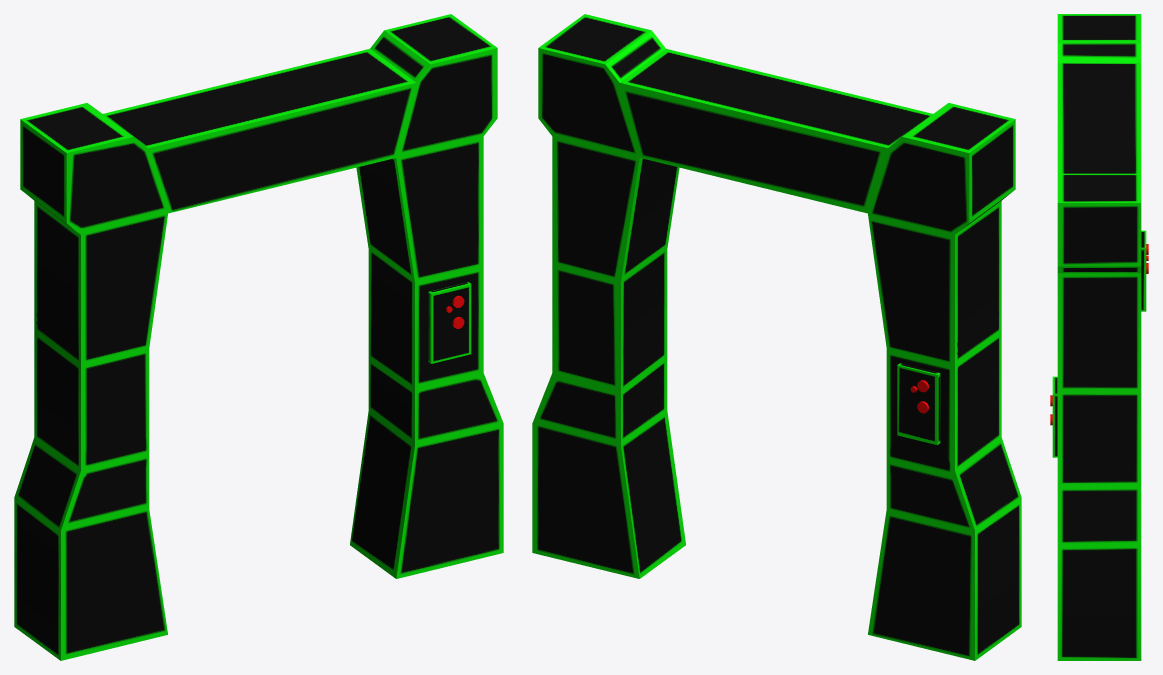
File: SciFiDoorFrame_m.FBX
3 renders of one model, left to right at view 1: azimuth 30°, elevation 25°; view 2: azimuth 150°, elevation 25°; view 3: azimuth 270°, elevation 25°, orthographic. The views are drawn at different scales.
Parts seen in each view (by area): view 1: Door_Frame; view 2: Door_Frame; view 3: Door_Frame.
Boxes of the visible parts, x1=… form: Door_Frame: x1=14, y1=14, x2=503, y2=660; Door_Frame: x1=532, y1=14, x2=1021, y2=660; Door_Frame: x1=1050, y1=14, x2=1148, y2=660.
Size of the model in its own units: 330 by 70.68 by 361.
